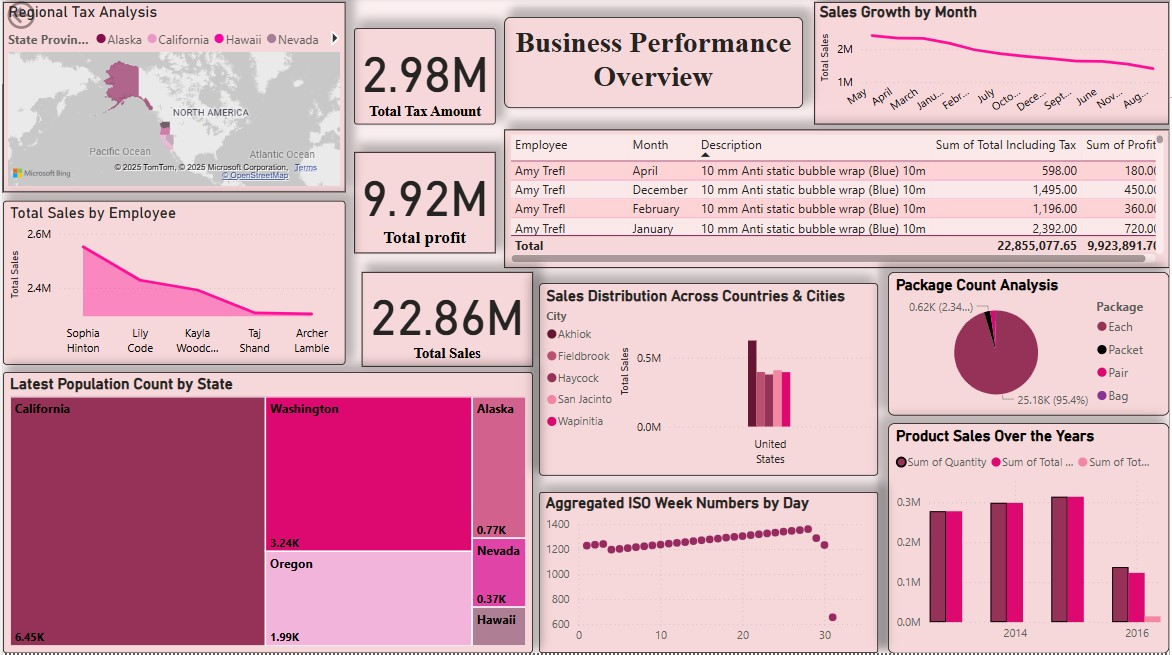

The dashboard page shown, as its layout file describes it:
{"tool":"powerbi","page":{"name":"Page 1","canvas":[1280,720],"ordinal":0},"visuals":[{"type":"clusteredColumnChart","title":"Product Sales Over the Years","fields":{"Category":["DimDate.Calendar Year"],"Y":["FactSale.Quantity","FactSale.Total Dry Items","FactSale.Total Chiller Items"]},"box":[971.5,467.9,308.7,252.5],"z":0},{"type":"card","fields":{"Values":["FactSale.Total profit"]},"box":[385.6,170.2,155.1,111.1],"z":1000},{"type":"tableEx","fields":{"Values":["DimEmployee.Employee","DimDate.Month","FactSale.Description","FactSale.Total Including Tax","FactSale.Profit"]},"box":[550.3,145.5,730,152.3],"z":2000},{"type":"card","fields":{"Values":["FactSale.Total Sales"]},"box":[393.8,301.9,188,104.3],"z":3000},{"type":"lineChart","title":"Sales Growth by Month","fields":{"Y":["FactSale.Total Sales"],"Category":["DimDate.Month"]},"box":[890.6,5.5,389.7,134.5],"z":4000},{"type":"areaChart","fields":{"Category":["DimEmployee.Employee"],"Y":["FactSale.Total Sales"]},"box":[0,223.7,376,179.8],"z":5000},{"type":"actionButton","box":[0,0,100,40],"z":6000},{"type":"clusteredColumnChart","title":"Sales Distribution Across Countries & Cities","fields":{"Category":["DimCity.Country"],"Y":["FactSale.Total Sales"],"Series":["DimCity.City"]},"box":[588.7,314.2,371.9,211.3],"z":7000},{"type":"pieChart","title":"Package Count Analysis","fields":{"Category":["FactSale.Package"],"Y":["FactSale.Package"]},"box":[971.5,301.9,308.7,157.8],"z":8000},{"type":"card","fields":{"Values":["FactSale.Total Tax Amount"]},"box":[385.6,34.3,155.1,105.7],"z":9000},{"type":"scatterChart","title":"Aggregated ISO Week Numbers by Day","fields":{"X":["DimDate.Day Number"],"Y":["DimDate.ISO Week Number"]},"box":[588.7,543.4,371.9,177],"z":10000},{"type":"treemap","title":"Latest Population Count by State","fields":{"Values":["DimCity.Latest Recorded Population"],"Group":["DimCity.State Province"]},"box":[0,411.7,581.8,308.7],"z":11000},{"type":"textbox","box":[550.3,22,328,100.2],"z":12000},{"type":"filledMap","title":"Regional Tax Analysis","fields":{"Series":["DimCity.State Province"],"Category":["DimCity.State Province"]},"box":[0,5.5,376,208.6],"z":13000}]}

Visuals, with their boxes in screenshot pixels (x1, y1, x2, y2), scaled from the page's 1280x720 canvas onto the 1172x655 screenshot:
"Product Sales Over the Years" clusteredColumnChart: 890:426:1171:654
card - FactSale.Total profit: 353:155:495:256
tableEx - DimEmployee.Employee x DimDate.Month: 504:132:1171:271
card - FactSale.Total Sales: 361:275:533:370
"Sales Growth by Month" lineChart: 815:5:1171:127
areaChart - DimEmployee.Employee x FactSale.Total Sales: 0:204:344:367
actionButton: 0:0:92:36
"Sales Distribution Across Countries & Cities" clusteredColumnChart: 539:286:880:478
"Package Count Analysis" pieChart: 890:275:1171:418
card - FactSale.Total Tax Amount: 353:31:495:127
"Aggregated ISO Week Numbers by Day" scatterChart: 539:494:880:654
"Latest Population Count by State" treemap: 0:375:533:654
textbox: 504:20:804:111
"Regional Tax Analysis" filledMap: 0:5:344:195
